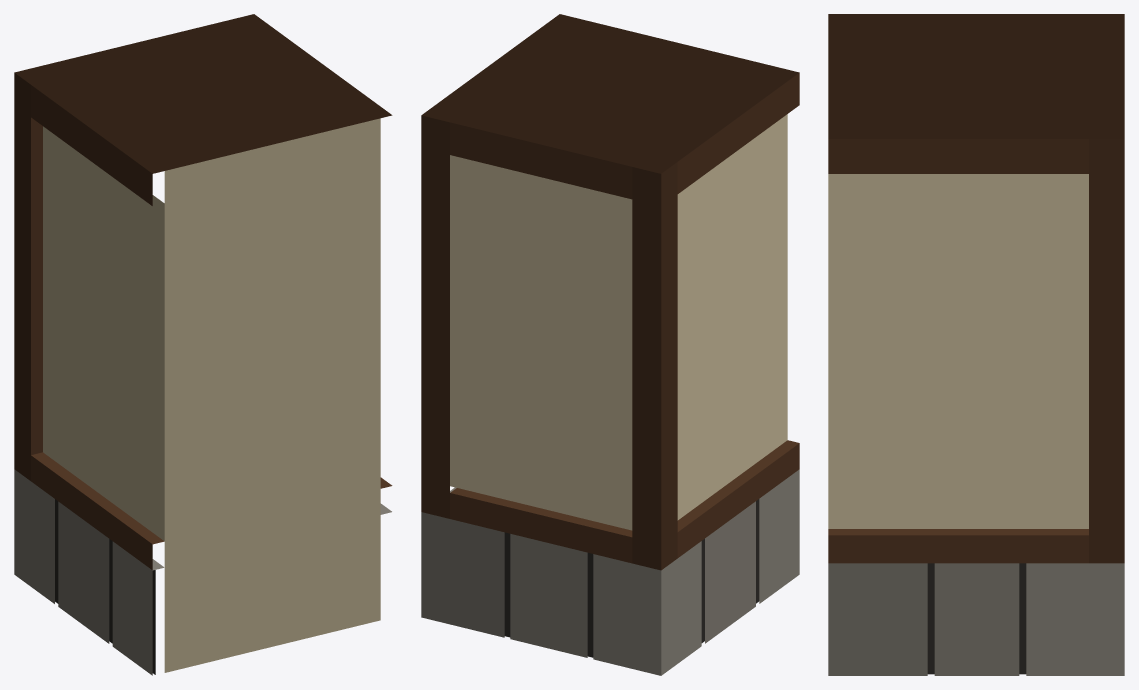
Rendered from tile_house_wall_2.glb.
3 views of the same model, side by side, from view 1: azimuth 30°, elevation 25°; view 2: azimuth 150°, elevation 25°; view 3: azimuth 270°, elevation 25° (orthographic). The views are drawn at different scales.
Parts seen in each view (by area): view 1: tile_house_wall_2; view 2: tile_house_wall_2; view 3: tile_house_wall_2.
Part boxes in pixels (x1,y1,x2,y2): tile_house_wall_2: (14,14,392,675); tile_house_wall_2: (421,14,799,675); tile_house_wall_2: (828,14,1124,675).
Bounding box in the file's own units: 1 × 2 × 1.
